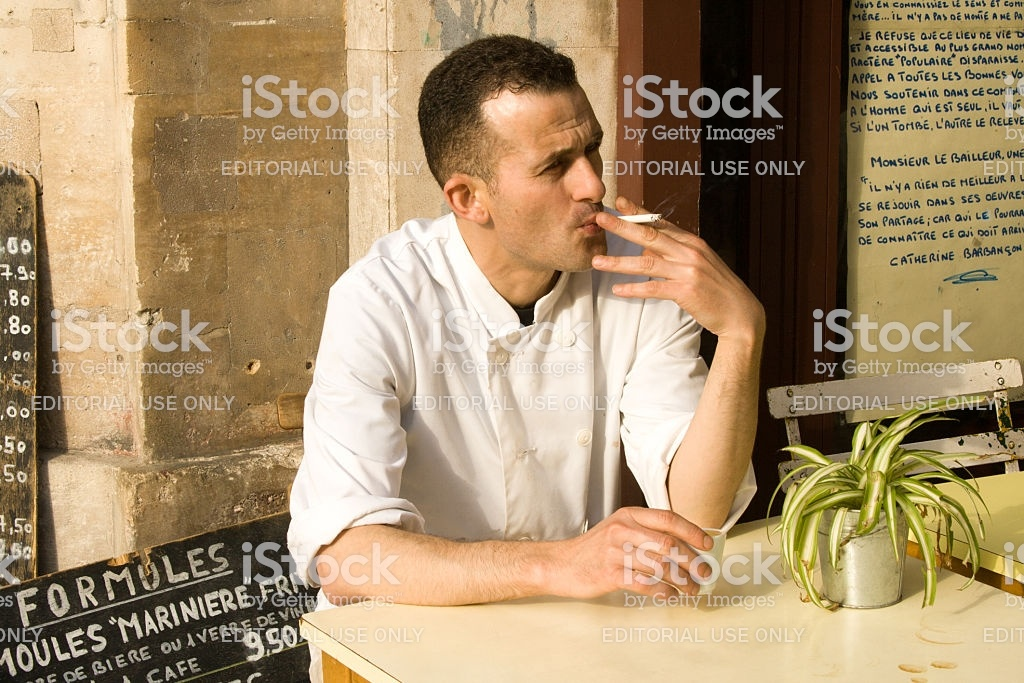sigaretta: (583, 208, 666, 227)
